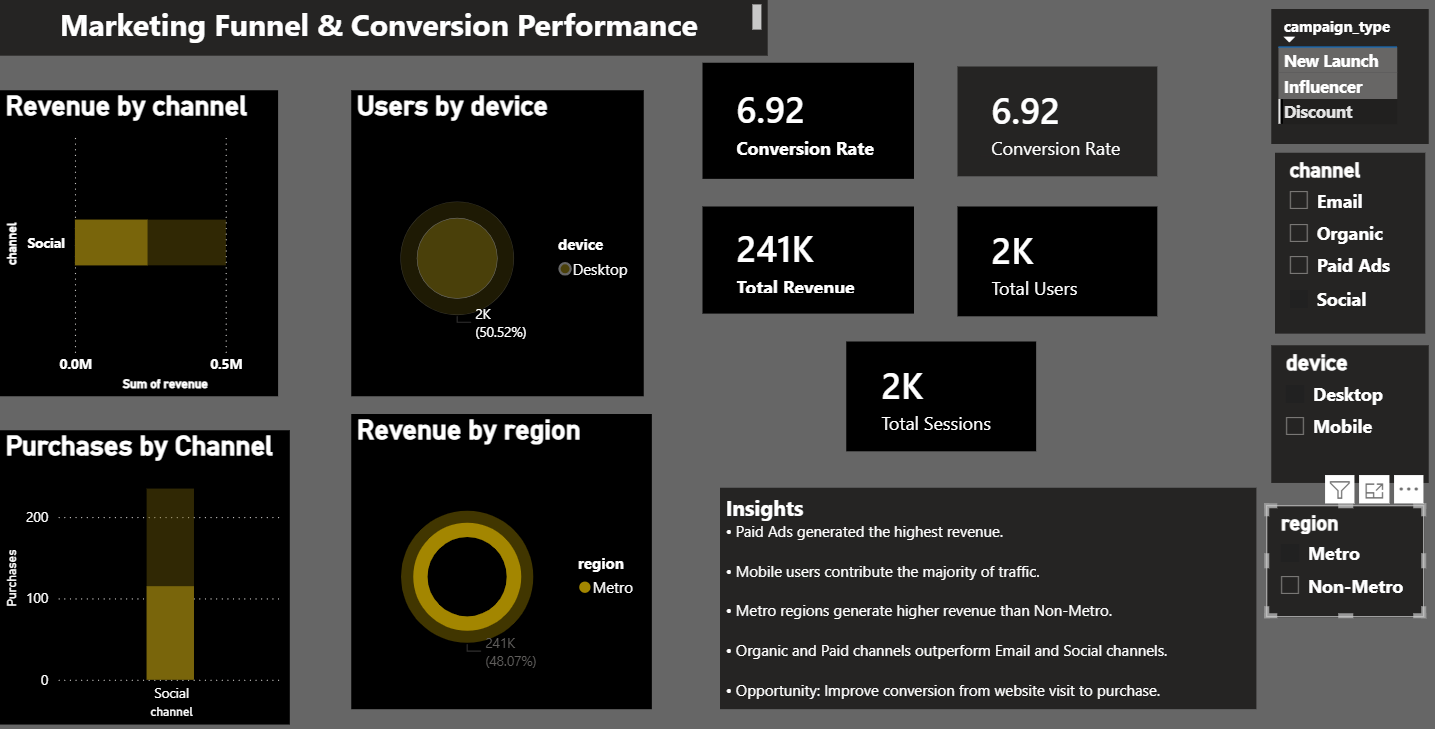

Layout of this report page (visuals, bound fields, positions):
{"tool":"powerbi","page":{"name":"Page 1","canvas":[1280,720],"ordinal":0},"visuals":[{"type":"cardVisual","fields":{"Data":["d2c_marketing_funnel_data.Total Sessions"]},"box":[182.9,81.4,177.1,151.4],"z":0},{"type":"cardVisual","fields":{"Data":["d2c_marketing_funnel_data.Total Users"]},"box":[394.3,81.4,158.6,148.6],"z":1},{"type":"cardVisual","fields":{"Data":["d2c_marketing_funnel_data.Total Revenue"]},"box":[582.9,81.4,164.3,148.6],"z":2},{"type":"clusteredBarChart","title":"Revenue by channel","fields":{"Category":["d2c_marketing_funnel_data.channel"],"Y":["Sum(d2c_marketing_funnel_data.revenue)"]},"box":[158.6,241.4,248.6,272.9],"z":3},{"type":"pieChart","title":" Users by device","fields":{"Category":["d2c_marketing_funnel_data.device"],"Y":["d2c_marketing_funnel_data.Total Users"]},"box":[422.9,242.9,258.6,272.9],"z":4},{"type":"donutChart","title":" Revenue by region","fields":{"Category":["d2c_marketing_funnel_data.region"],"Y":["d2c_marketing_funnel_data.Total Revenue"]},"box":[991.4,242.9,268.6,261.4],"z":5},{"type":"slicer","fields":{"Values":["d2c_marketing_funnel_data.channel"]},"box":[7.1,31.4,134.3,150],"z":7},{"type":"slicer","fields":{"Values":["d2c_marketing_funnel_data.device"]},"box":[0,192.9,141.4,150],"z":8},{"type":"slicer","fields":{"Values":["d2c_marketing_funnel_data.region"]},"box":[0,364.3,141.4,150],"z":9},{"type":"tableEx","fields":{"Values":["d2c_marketing_funnel_data.campaign_type"]},"box":[0,522.9,141.4,174.3],"z":11},{"type":"cardVisual","fields":{"Data":["Table.Conversion Rate"]},"box":[790,81.4,188.6,148.6],"z":12},{"type":"clusteredColumnChart","title":"Purchases by Channel","fields":{"Category":["d2c_marketing_funnel_data.channel"],"Y":["d2c_marketing_funnel_data.Purchases"]},"box":[702.9,242.9,260,261.4],"z":13},{"type":"textbox","box":[204.3,0,864.3,50],"z":14},{"type":"textbox","box":[204.3,524.3,477.1,195.7],"z":15},{"type":"cardVisual","fields":{"Data":["Table.Conversion Rate"]},"box":[1024.3,84.3,178.6,142.9],"z":16},{"type":"textbox","box":[702.9,514.3,485.7,205.7],"z":17}]}

Visuals, with their boxes on the page's 1280x720 design canvas (x1, y1, x2, y2). These are canvas units, not pixel positions in the 1435x729 screenshot, which may show the page scaled, cropped or inside an application window:
cardVisual - d2c_marketing_funnel_data.Total Sessions: BBox(183, 81, 360, 233)
cardVisual - d2c_marketing_funnel_data.Total Users: BBox(394, 81, 553, 230)
cardVisual - d2c_marketing_funnel_data.Total Revenue: BBox(583, 81, 747, 230)
"Revenue by channel" clusteredBarChart: BBox(159, 241, 407, 514)
" Users by device" pieChart: BBox(423, 243, 682, 516)
" Revenue by region" donutChart: BBox(991, 243, 1260, 504)
slicer - d2c_marketing_funnel_data.channel: BBox(7, 31, 141, 181)
slicer - d2c_marketing_funnel_data.device: BBox(0, 193, 141, 343)
slicer - d2c_marketing_funnel_data.region: BBox(0, 364, 141, 514)
tableEx - d2c_marketing_funnel_data.campaign_type: BBox(0, 523, 141, 697)
cardVisual - Table.Conversion Rate: BBox(790, 81, 979, 230)
"Purchases by Channel" clusteredColumnChart: BBox(703, 243, 963, 504)
textbox: BBox(204, 0, 1069, 50)
textbox: BBox(204, 524, 681, 720)
cardVisual - Table.Conversion Rate: BBox(1024, 84, 1203, 227)
textbox: BBox(703, 514, 1189, 720)
